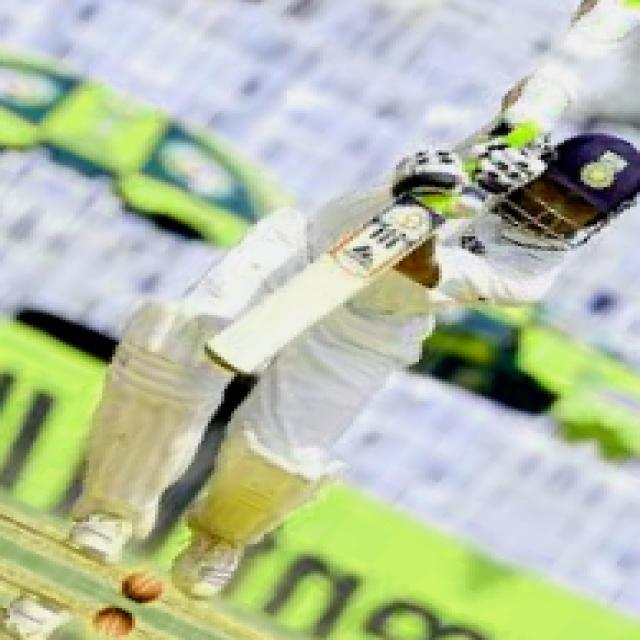bat: (204, 196, 449, 387)
toe: (204, 344, 256, 382)
